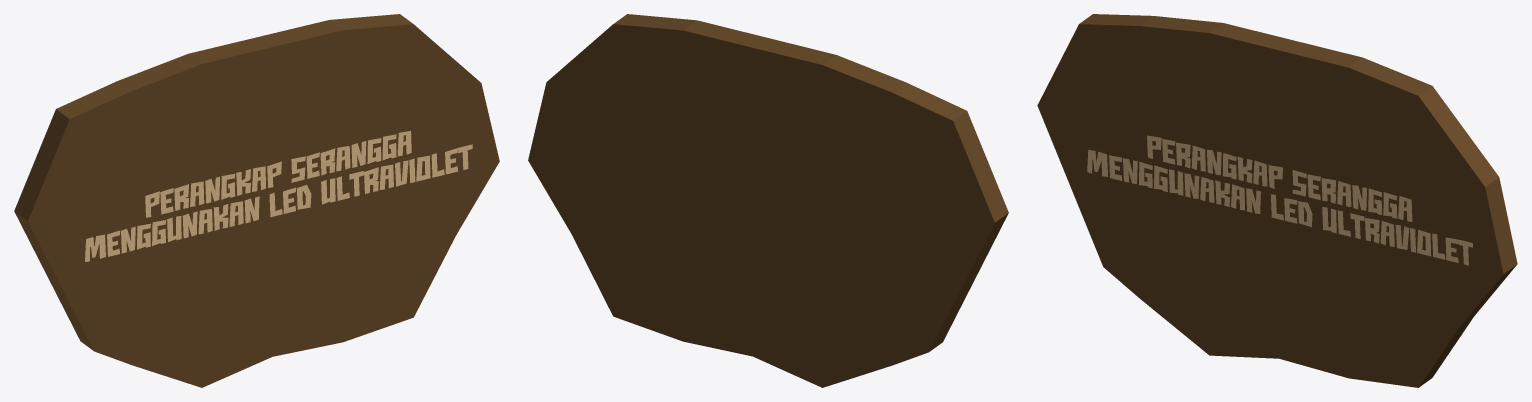
Rendered from ui_1_PENGUSIR HAMA.fbx.
3 views of the same model, side by side, from view 1: azimuth 30°, elevation 25°; view 2: azimuth 150°, elevation 25°; view 3: azimuth 330°, elevation 25° (orthographic).
Visible parts, largest first — view 1: Cube.003, Text.002; view 2: Cube.003; view 3: Cube.003, Text.002.
Part boxes in pixels (left/top/right/bottom): Cube.003: left=14, top=14, right=499, bottom=387; Text.002: left=85, top=131, right=472, bottom=261; Cube.003: left=528, top=14, right=1008, bottom=387; Cube.003: left=1037, top=14, right=1517, bottom=387; Text.002: left=1087, top=135, right=1472, bottom=265.
Size of the model in its own units: 256 by 168 by 16.5.
